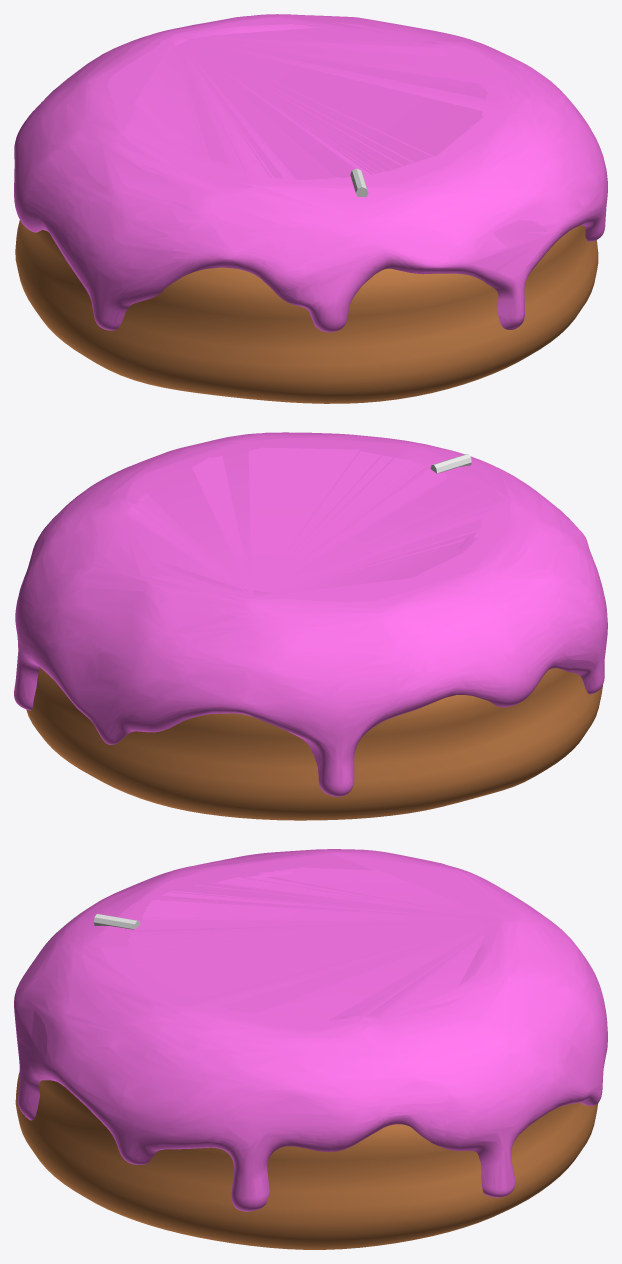
The model's file is first donut.fbx.
3 views of the same model, one above another, from view 1: azimuth 30°, elevation 25°; view 2: azimuth 150°, elevation 25°; view 3: azimuth 270°, elevation 25° (orthographic).
Parts seen in each view (by area): view 1: icing, donut; view 2: icing, donut; view 3: icing, donut.
Boxes of the visible parts, left/top/right/bottom form: icing: left=14, top=14, right=607, bottom=332; donut: left=15, top=220, right=598, bottom=403; icing: left=14, top=432, right=607, bottom=796; donut: left=26, top=667, right=602, bottom=820; icing: left=14, top=849, right=607, bottom=1211; donut: left=15, top=1072, right=598, bottom=1249.
Size of what is drawn, in the model's own units: 9.73 by 3.98 by 9.73.
